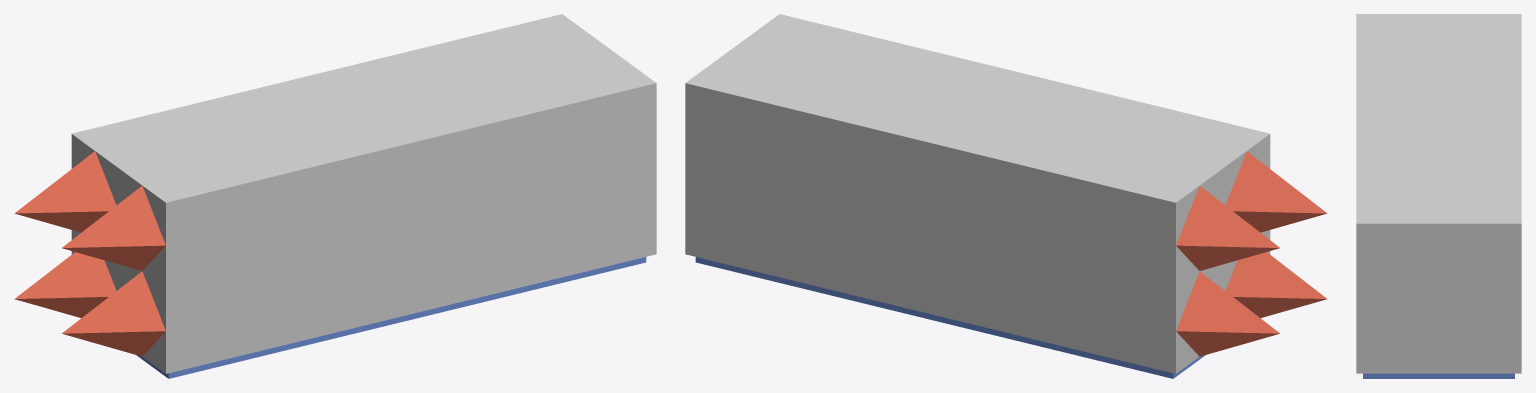
The model's file is plateformes.fbx.
3 views of the same model, side by side, from view 1: azimuth 30°, elevation 25°; view 2: azimuth 150°, elevation 25°; view 3: azimuth 270°, elevation 25° (orthographic). The views are drawn at different scales.
Visible parts, largest first — view 1: Plateforme_3, Plateforme_2, Plateforme_1; view 2: Plateforme_3, Plateforme_1, Plateforme_2; view 3: Plateforme_3, Plateforme_2, Plateforme_1.
Part boxes in pixels (<box>): Plateforme_3: <box>76,14,656,377</box>; Plateforme_2: <box>72,54,492,376</box>; Plateforme_1: <box>14,94,329,378</box>; Plateforme_3: <box>685,14,1264,377</box>; Plateforme_1: <box>1012,94,1327,378</box>; Plateforme_2: <box>849,54,1264,378</box>; Plateforme_3: <box>1356,14,1521,378</box>; Plateforme_2: <box>1356,14,1521,153</box>; Plateforme_1: <box>1356,14,1521,83</box>.
Bounding box in the file's own units: 349 × 105 × 100.
